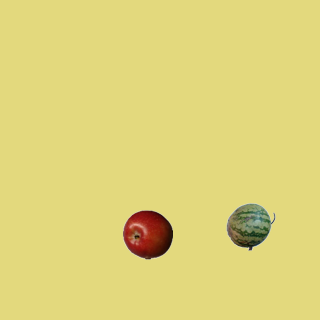Apple Braeburn: (122, 209, 172, 259)
Watermelon: (225, 201, 275, 251)
